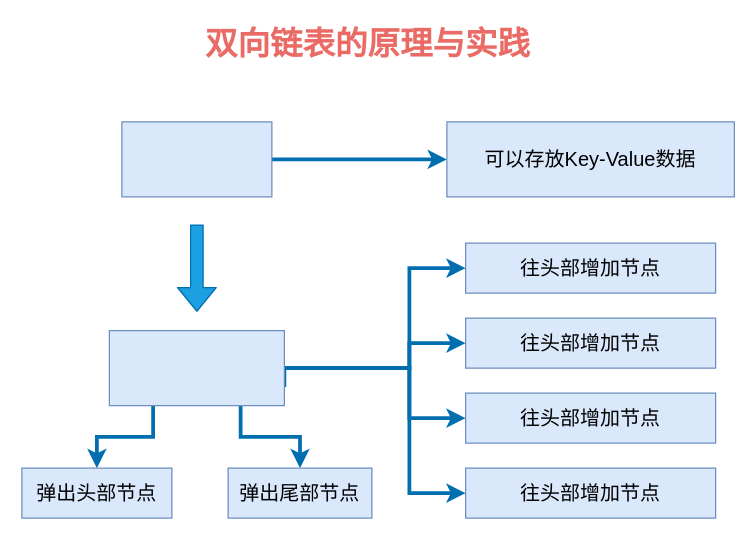
This 756x540 diagram has some shape labels left out. The shapes that lost their labels are listed below. From the top down, each one's centre as x and y in pixels, then its label:
At point 196,159: "实现链表节点".
At point 196,367: "实现双向链表".
